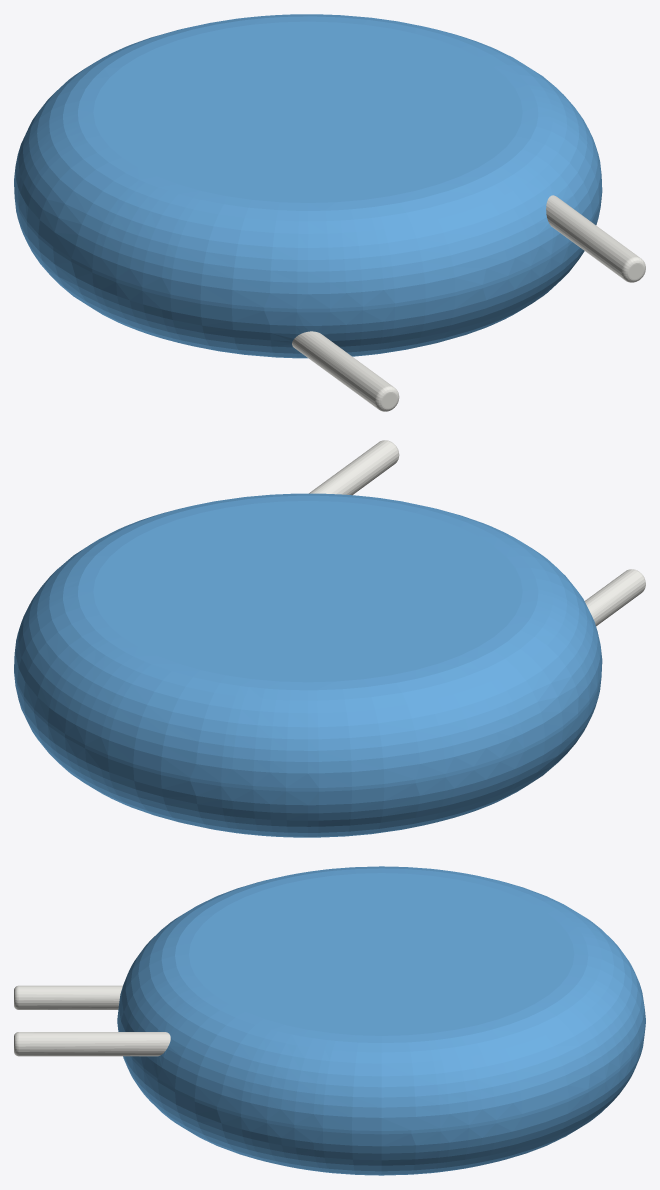
Rendered from RV_Disc_D15.5mm_W4.3mm_P7.5mm.glb.
3 views of the same model, one above another, from view 1: azimuth 30°, elevation 25°; view 2: azimuth 150°, elevation 25°; view 3: azimuth 270°, elevation 25° (orthographic). The views are drawn at different scales.
Parts seen in each view (by area): view 1: Shape_IndexedFaceSet.001, Shape_IndexedFaceSet.003, Shape_IndexedFaceSet.002, Shape_IndexedFaceSet.006, Shape_IndexedFaceSet.004, Shape_IndexedFaceSet; view 2: Shape_IndexedFaceSet.001, Shape_IndexedFaceSet.003, Shape_IndexedFaceSet.002, Shape_IndexedFaceSet, Shape_IndexedFaceSet.004, Shape_IndexedFaceSet.006; view 3: Shape_IndexedFaceSet.001, Shape_IndexedFaceSet.003, Shape_IndexedFaceSet.002, Shape_IndexedFaceSet.004, Shape_IndexedFaceSet.006, Shape_IndexedFaceSet.
Boxes of the visible parts, x1=… form: Shape_IndexedFaceSet.001: x1=14, y1=14, x2=602, y2=308; Shape_IndexedFaceSet.003: x1=93, y1=21, x2=522, y2=202; Shape_IndexedFaceSet.002: x1=14, y1=195, x2=601, y2=358; Shape_IndexedFaceSet.006: x1=292, y1=331, x2=392, y2=408; Shape_IndexedFaceSet.004: x1=546, y1=195, x2=639, y2=279; Shape_IndexedFaceSet: x1=14, y1=184, x2=602, y2=312; Shape_IndexedFaceSet.001: x1=14, y1=493, x2=602, y2=787; Shape_IndexedFaceSet.003: x1=93, y1=501, x2=522, y2=682; Shape_IndexedFaceSet.002: x1=14, y1=673, x2=601, y2=837; Shape_IndexedFaceSet: x1=14, y1=661, x2=602, y2=791; Shape_IndexedFaceSet.004: x1=309, y1=440, x2=398, y2=495; Shape_IndexedFaceSet.006: x1=584, y1=569, x2=645, y2=626; Shape_IndexedFaceSet.001: x1=117, y1=866, x2=645, y2=1130; Shape_IndexedFaceSet.003: x1=189, y1=873, x2=574, y2=1035; Shape_IndexedFaceSet.002: x1=117, y1=1026, x2=645, y2=1175; Shape_IndexedFaceSet.004: x1=19, y1=1032, x2=170, y2=1056; Shape_IndexedFaceSet.006: x1=19, y1=985, x2=122, y2=1009; Shape_IndexedFaceSet: x1=117, y1=1021, x2=645, y2=1134.
Size of the model in its own units: 6.1 by 1.69 by 7.29.
